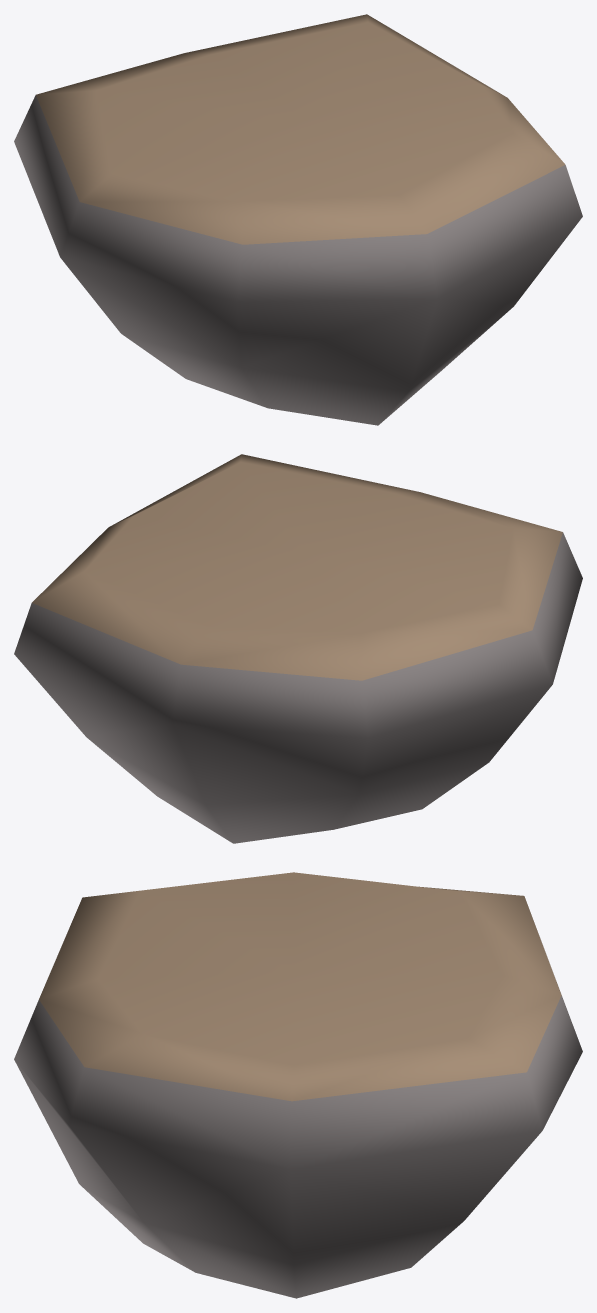
Rendered from Schwebestein_7.fbx.
3 views of the same model, one above another, from view 1: azimuth 30°, elevation 25°; view 2: azimuth 150°, elevation 25°; view 3: azimuth 270°, elevation 25° (orthographic). The views are drawn at different scales.
Parts seen in each view (by area): view 1: Schwebestein_7; view 2: Schwebestein_7; view 3: Schwebestein_7.
Boxes of the visible parts, bbox=[...] form: Schwebestein_7: bbox=[14, 14, 582, 425]; Schwebestein_7: bbox=[14, 454, 582, 843]; Schwebestein_7: bbox=[14, 872, 582, 1298].
Bounding box in the file's own units: 713 × 390 × 700.
